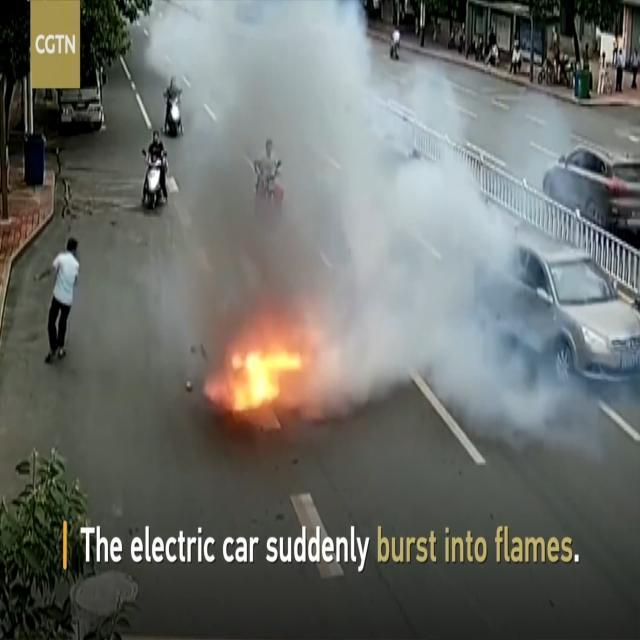fire: (203, 320, 314, 423)
